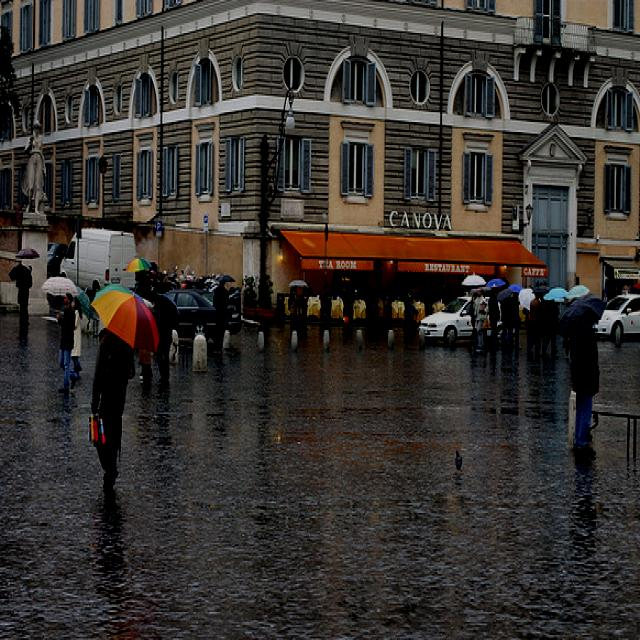Vehicle: (59, 227, 138, 295), (164, 288, 244, 338), (418, 295, 476, 347), (594, 294, 640, 344), (46, 242, 68, 280), (230, 284, 243, 306)
